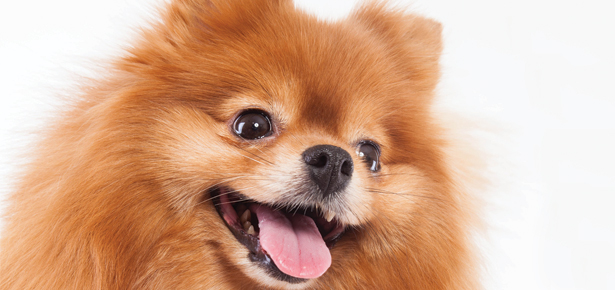pomeranian: (4, 2, 485, 290)
